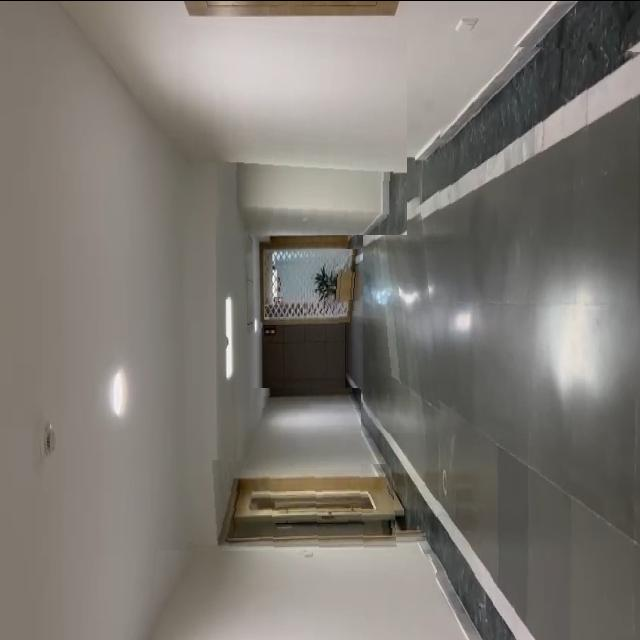door: (206, 459, 397, 549)
floor: (436, 42, 640, 640), (363, 190, 443, 432)
furniture: (304, 248, 363, 328)
wall: (174, 22, 407, 234), (150, 549, 440, 640), (246, 387, 361, 469)
